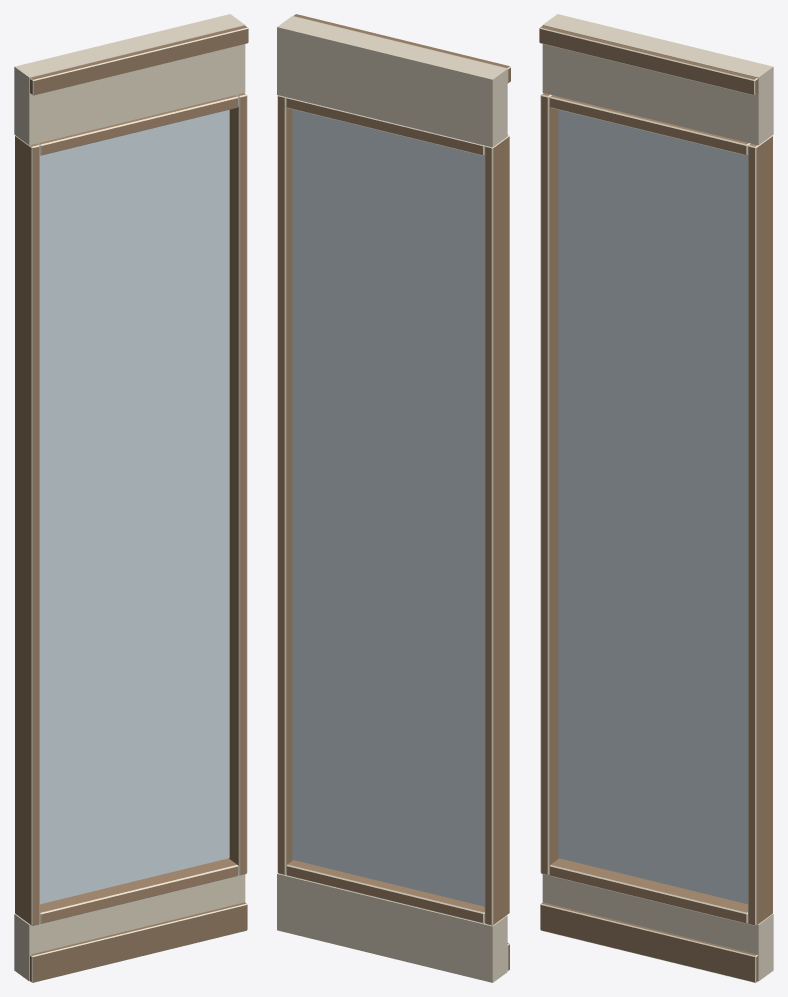
Rendered from ventanal_400.glb.
3 views of the same model, side by side, from view 1: azimuth 30°, elevation 25°; view 2: azimuth 150°, elevation 25°; view 3: azimuth 330°, elevation 25° (orthographic).
Visible parts, largest first — view 1: ventanal_400; view 2: ventanal_400; view 3: ventanal_400.
Part boxes in pixels (x1,y1,x2,y2): ventanal_400: (14,14,248,982); ventanal_400: (277,14,510,982); ventanal_400: (539,14,773,982).
Bounding box in the file's own units: 1 × 4 × 0.15.
